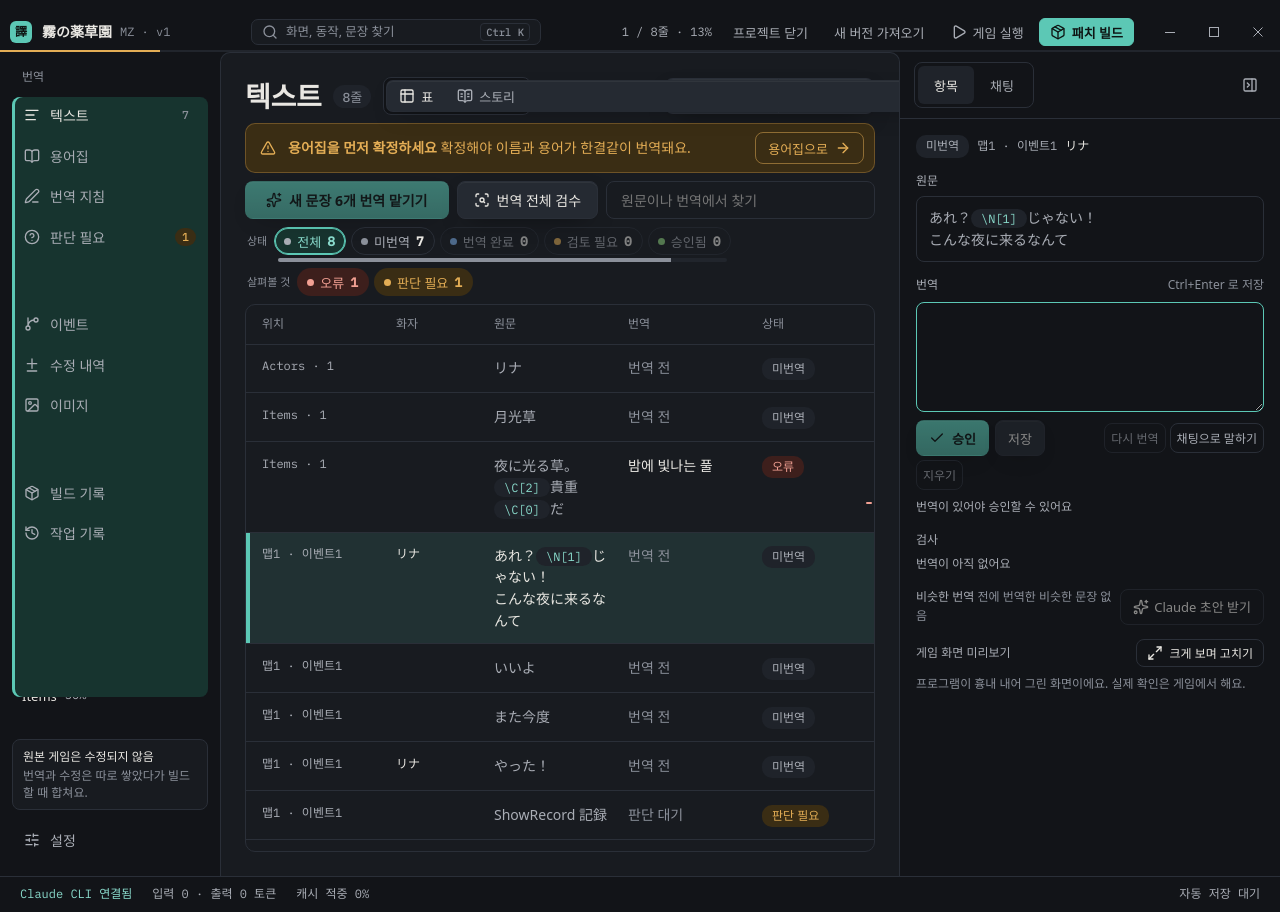
Test: 넓은 창: 기본은 펼친 상태, 접기 단추로 좁은 띠가 되고 띠의 단추로 다시 연다
Later steps or results of the test are not shown.
Check: the text "霧の薬草園" is shown, box [42, 21, 112, 43]
Click the button named "오른쪽 패널 접기".
click(1250, 85)  # box [1234, 69, 1266, 101]
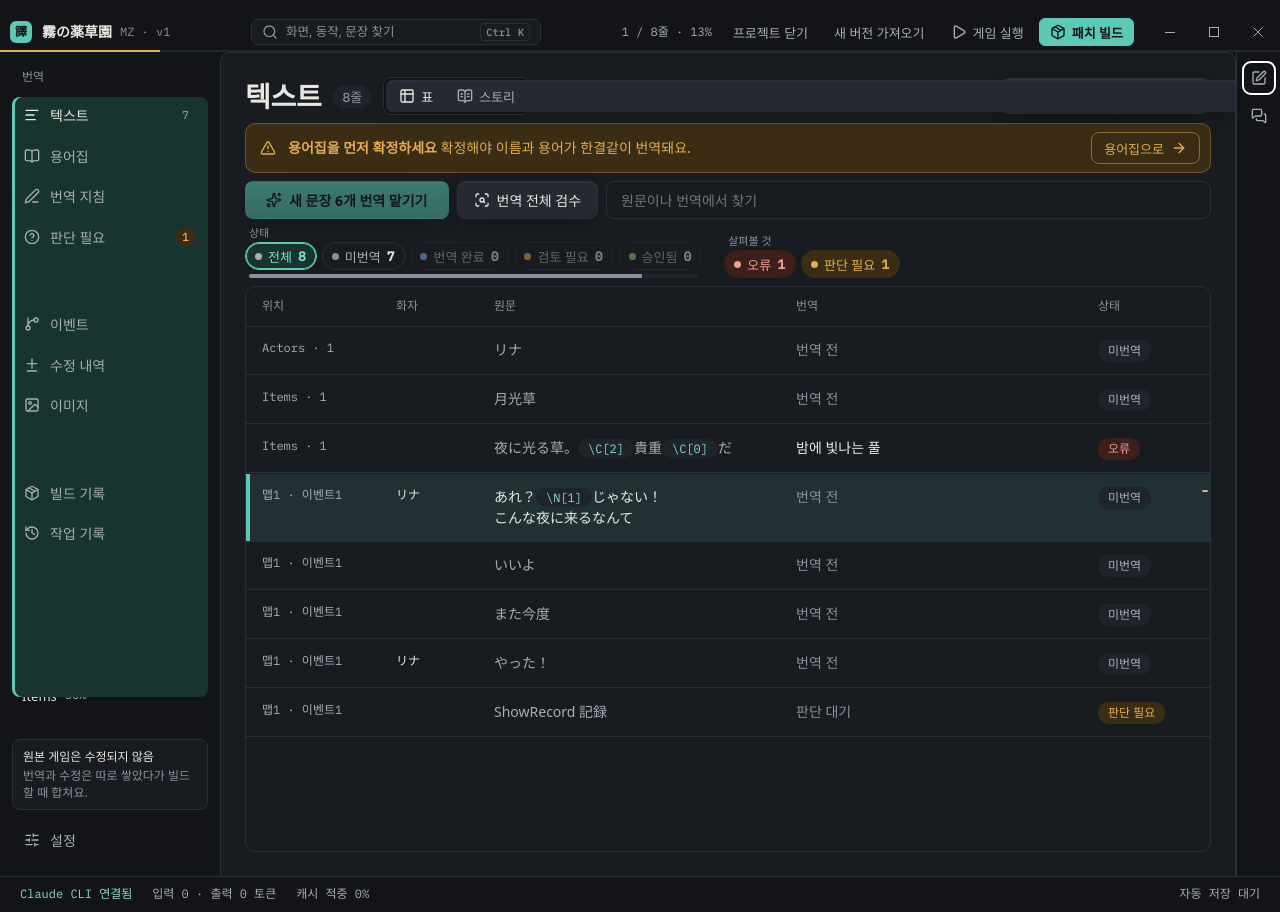
Check: the element named "항목과 채팅" has class "collapsed", box [1236, 52, 1279, 876]
Click the button named "채팅 열기".
click(1258, 116)  # box [1242, 100, 1274, 132]
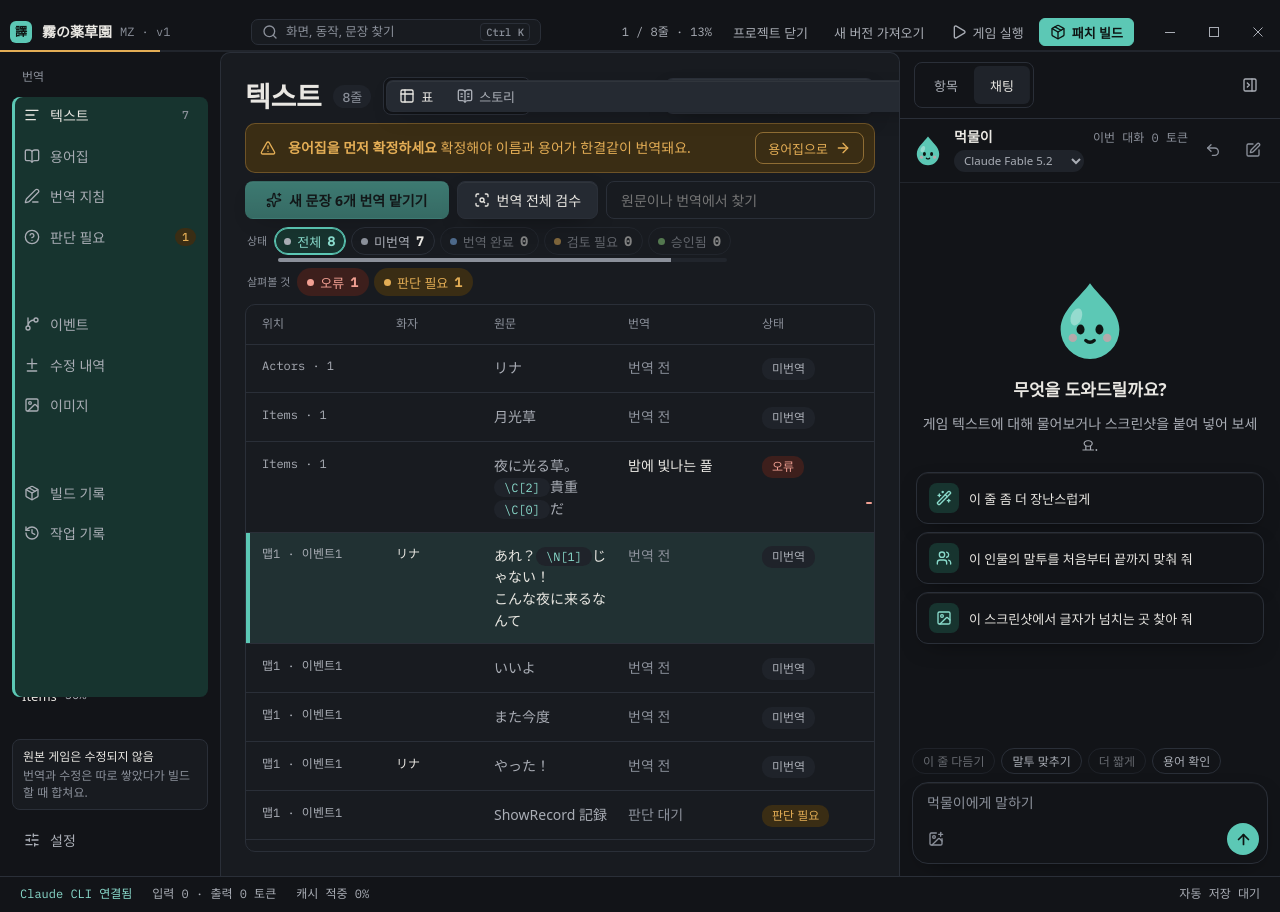
Check: the element named "항목과 채팅" does not have class "collapsed", box [900, 52, 1279, 876]
